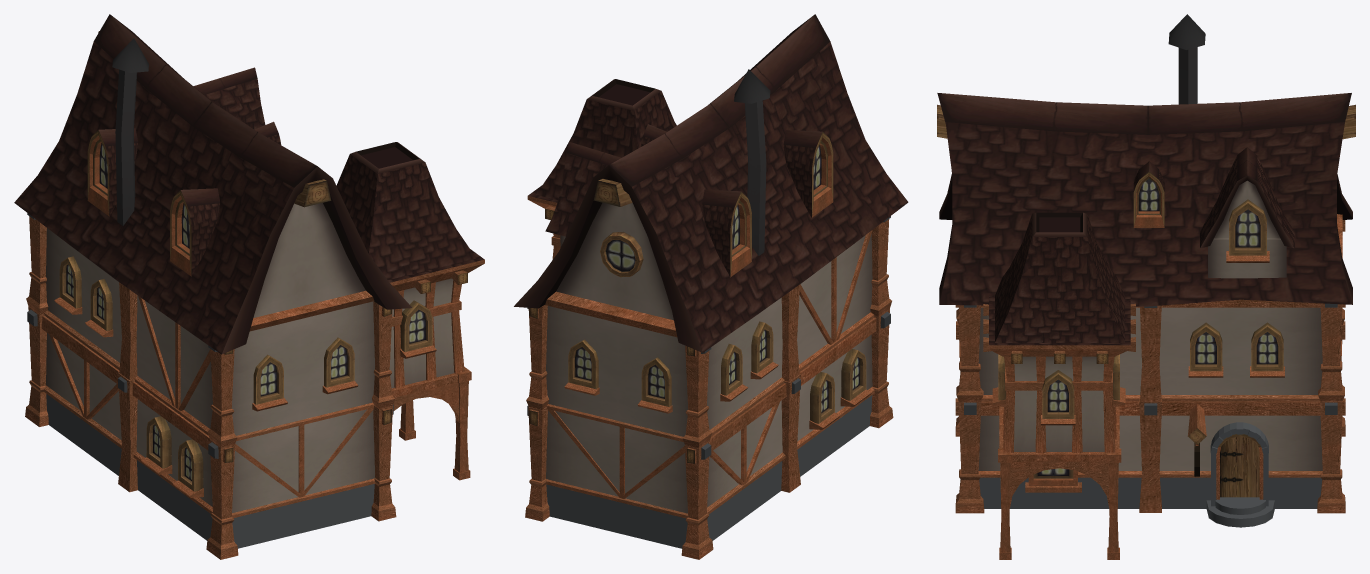
The model's file is fanasty_mod_village_building07.fbx.
3 views of the same model, side by side, from view 1: azimuth 30°, elevation 25°; view 2: azimuth 150°, elevation 25°; view 3: azimuth 270°, elevation 25° (orthographic).
Visible parts, largest first — view 1: village_building_07; view 2: village_building_07; view 3: village_building_07.
Boxes of the visible parts, x1,y1,x2,y2 form: village_building_07: (14,14,484,559); village_building_07: (514,14,908,559); village_building_07: (937,14,1355,559).
Bounding box in the file's own units: 10.1 × 14.19 × 12.57.
